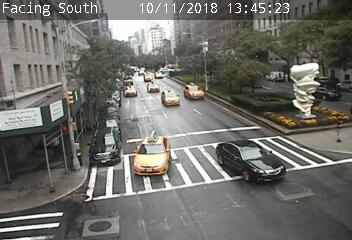car: (216, 140, 286, 182), (134, 136, 170, 174), (89, 127, 119, 166), (307, 86, 341, 100), (184, 84, 204, 99), (162, 90, 179, 106), (124, 85, 137, 97), (147, 82, 159, 93)
